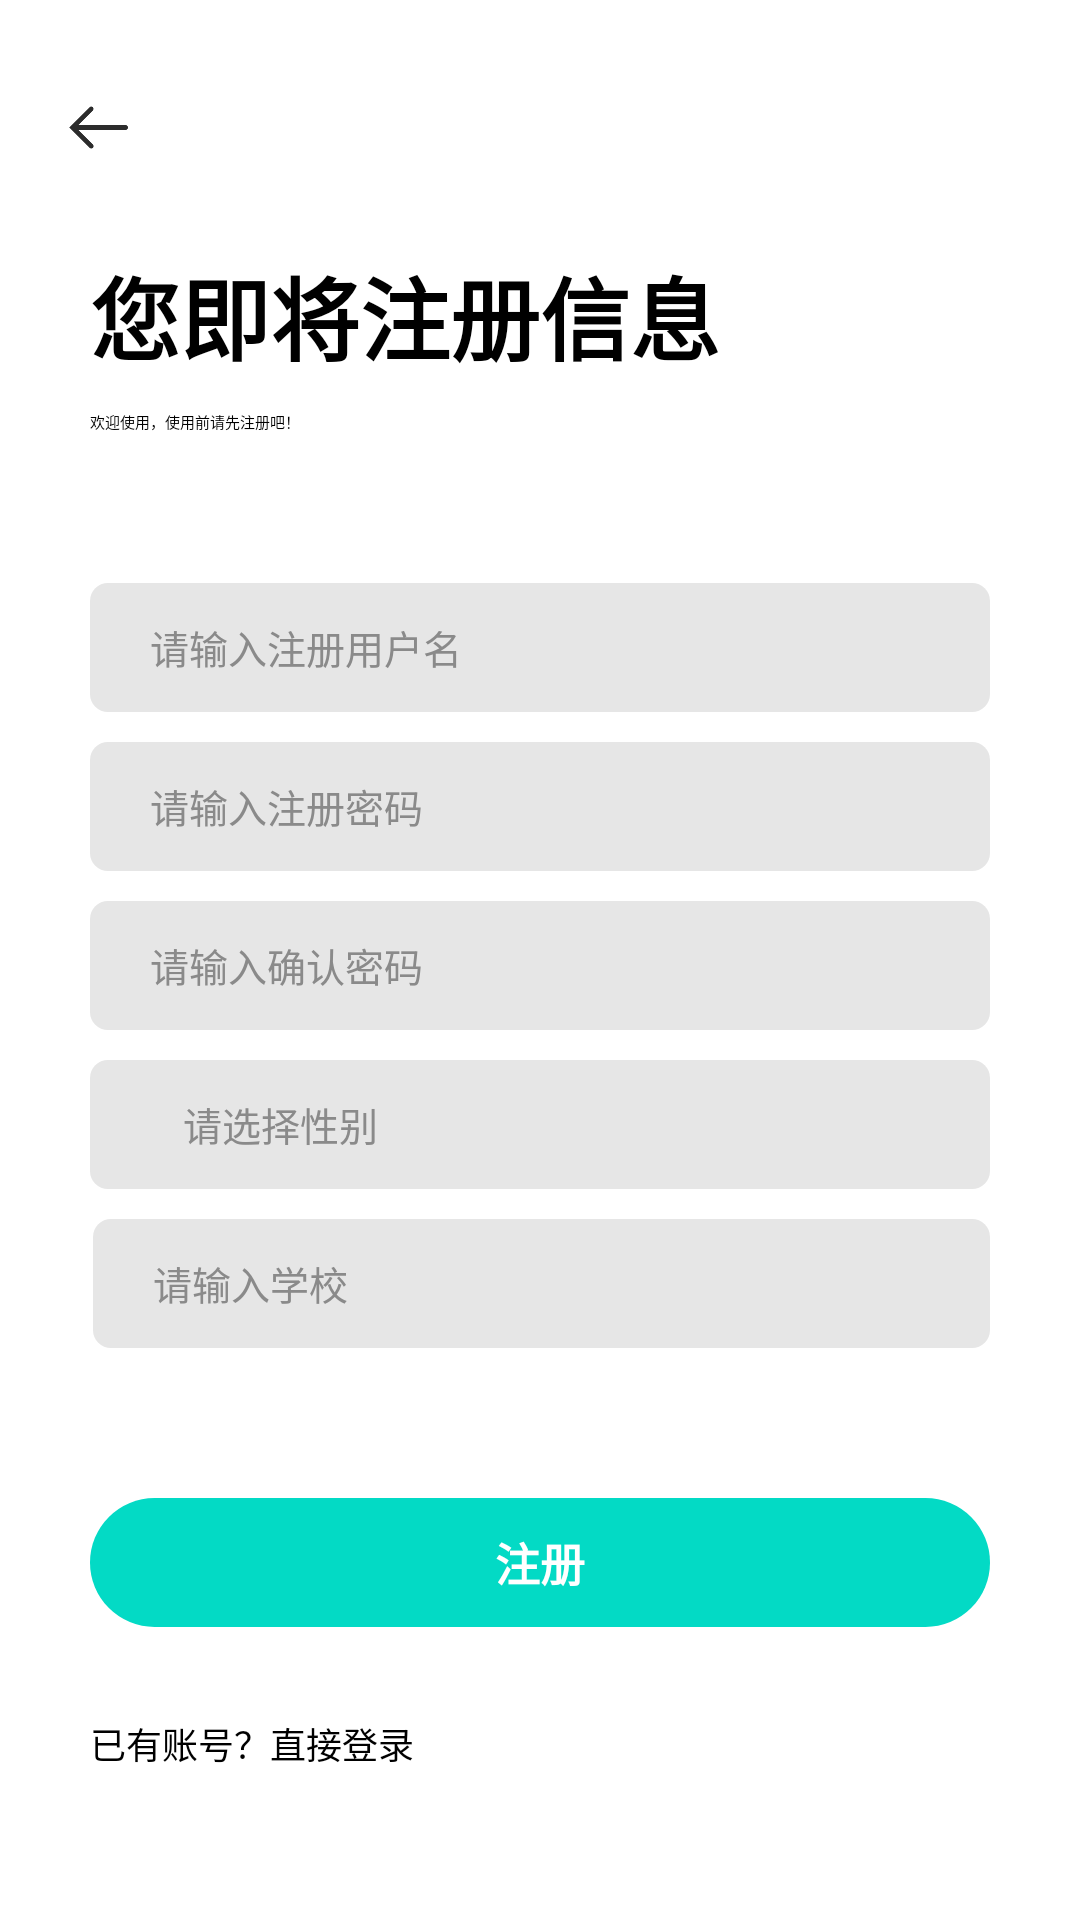

Icon bounding boxes for this 1080w x 1920h phone screenshot, format (x1, y1, x2, y2):
zuojiantou: (69, 106, 128, 149)
